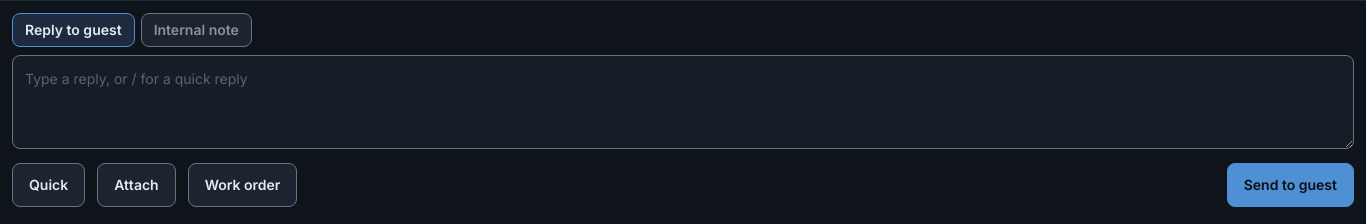
Test: Composer › counts characters and segments as you type
Type "Hello" into the text box.
click(683, 102); type("Hello")  # box [12,55,1354,149]
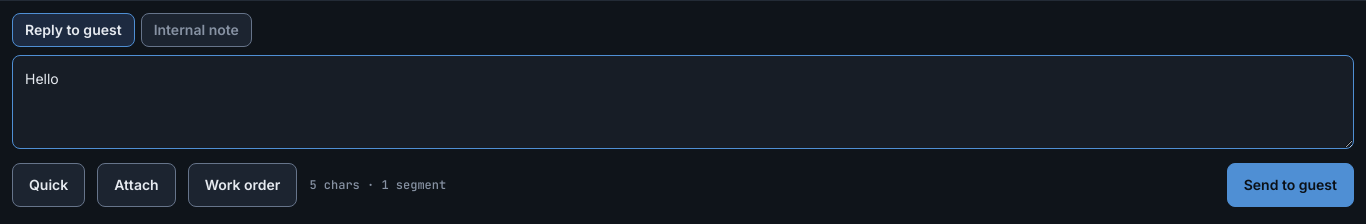
Check: the text with test id "segment-counter" reads "5 chars · 1 segment", box [309,177,446,193]
